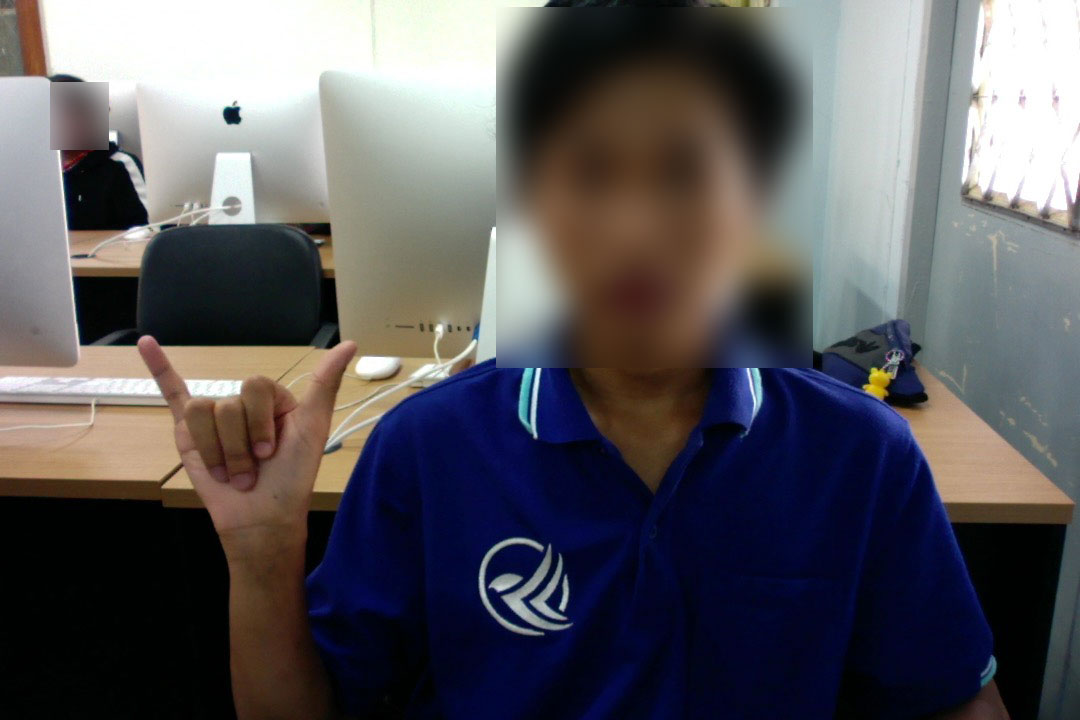yor: (134, 326, 372, 545)
